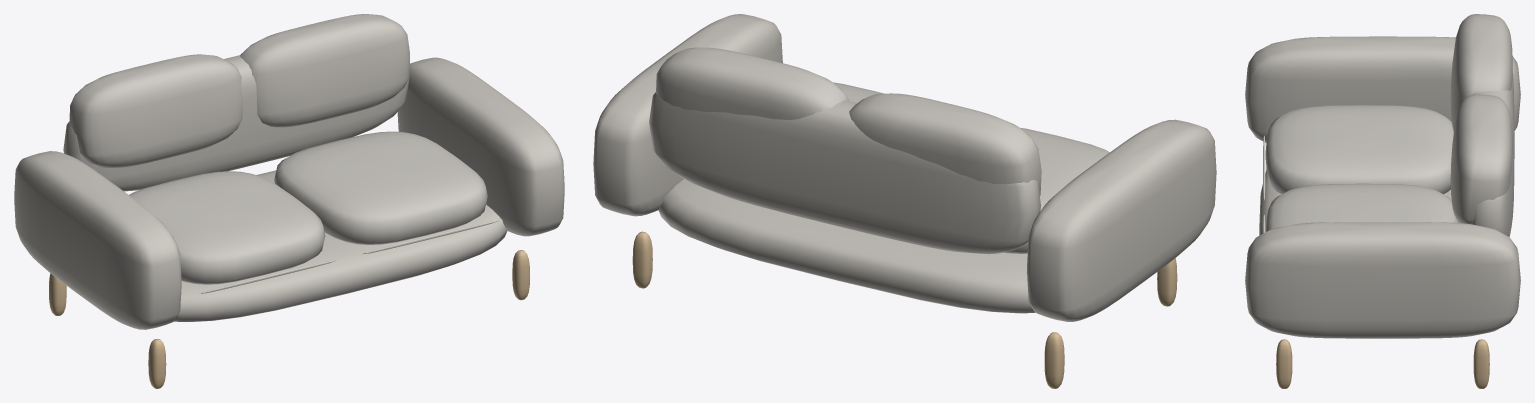
File: sofa-japandi-v1.glb
3 views of the same model, side by side, from view 1: azimuth 30°, elevation 25°; view 2: azimuth 150°, elevation 25°; view 3: azimuth 270°, elevation 25° (orthographic). The views are drawn at different scales.
Parts seen in each view (by area): view 1: fabric, legs; view 2: fabric, legs; view 3: fabric, legs.
Part boxes in pixels (x1,y1,x2,y2): fabric: [14, 14, 564, 329]; legs: [49, 250, 529, 388]; fabric: [593, 14, 1216, 321]; legs: [632, 231, 1177, 388]; fabric: [1245, 14, 1520, 338]; legs: [1276, 339, 1489, 388].
Bounding box in the file's own units: 1.6 × 0.7783 × 0.88.
